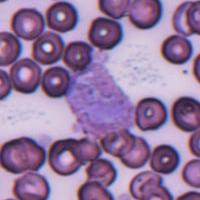E: (66, 67, 134, 138)
